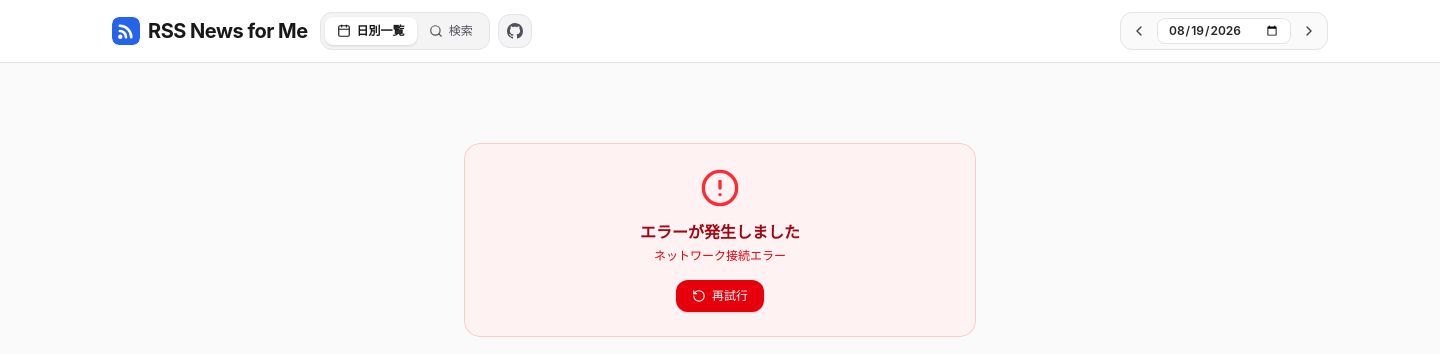
Scenario: フロントエンド App コンポーネントのテスト › 記事取得失敗時にエラーメッセージと再試行ボタンが表示され、再試行できること
This screenshot has width=1440, height=354.
Expected: the text "ネットワーク接続エラー" is shown, [654,248,786,263]
Click the button "再試行": (720, 296) [676,280,764,312]
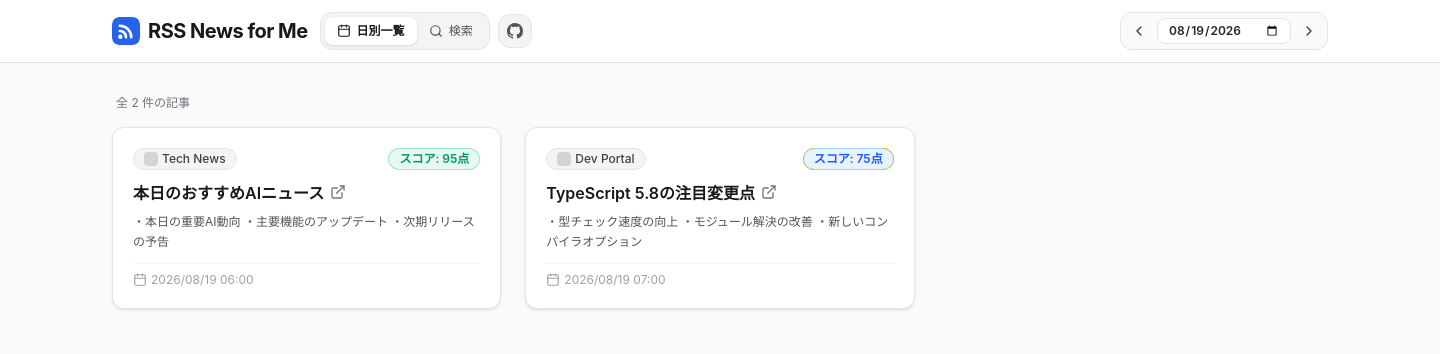
Expected: the text "本日のおすすめAIニュース" is shown, [133,182,324,204]
